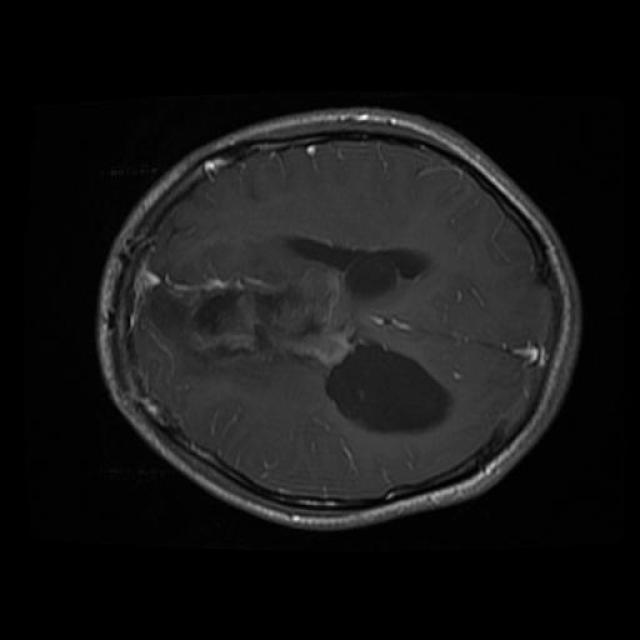Glioma: (151, 241, 451, 431)
